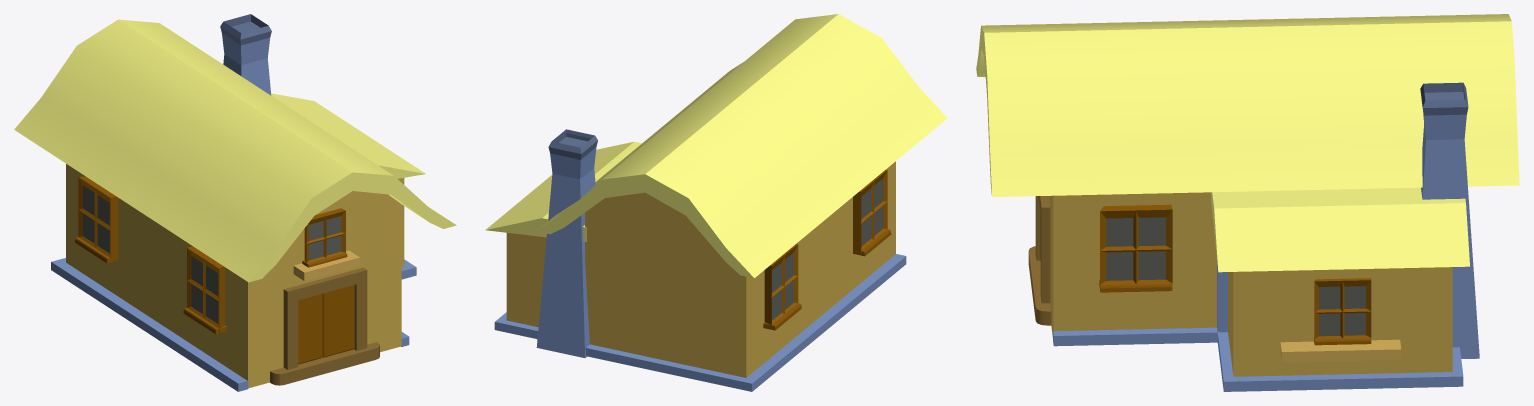
Rendered from house1.fbx.
The picture shows the model from 3 angles, left to right: view 1: azimuth 30°, elevation 25°; view 2: azimuth 150°, elevation 25°; view 3: azimuth 270°, elevation 25°; orthographic projection. The views are drawn at different scales.
Parts seen in each view (by area): view 1: Cube.075; view 2: Cube.075; view 3: Cube.075.
Part boxes in pixels (x1,y1,x2,y2): Cube.075: [14, 14, 456, 391]; Cube.075: [485, 14, 947, 391]; Cube.075: [976, 14, 1519, 391].
Bounding box in the file's own units: 640 × 446 × 831.
